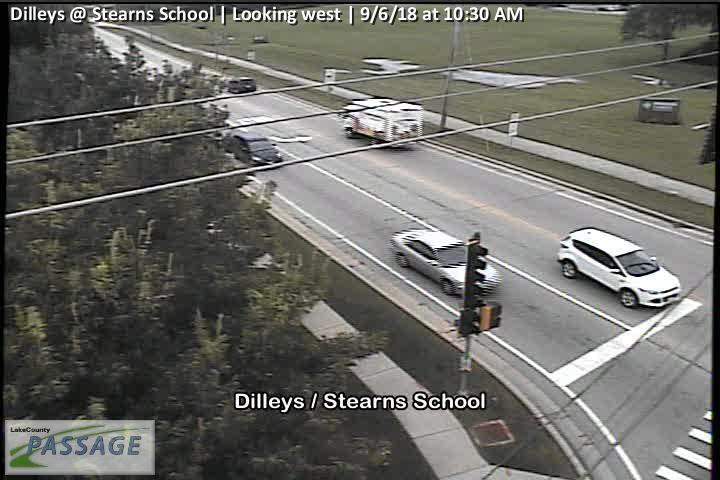SUV: (557, 226, 683, 308)
Sedan: (389, 228, 502, 297), (220, 128, 284, 170)
Truck: (338, 96, 425, 148)
